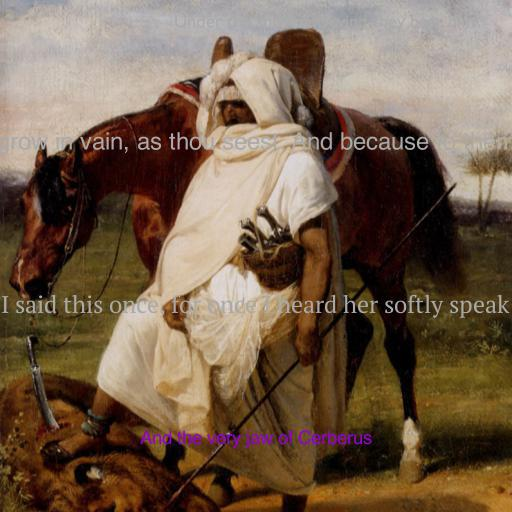Gill Sans: (173, 14, 475, 32)
Impact: (0, 132, 512, 155)
PT Serif: (1, 294, 509, 319)
SF Pro: (140, 430, 372, 449)
